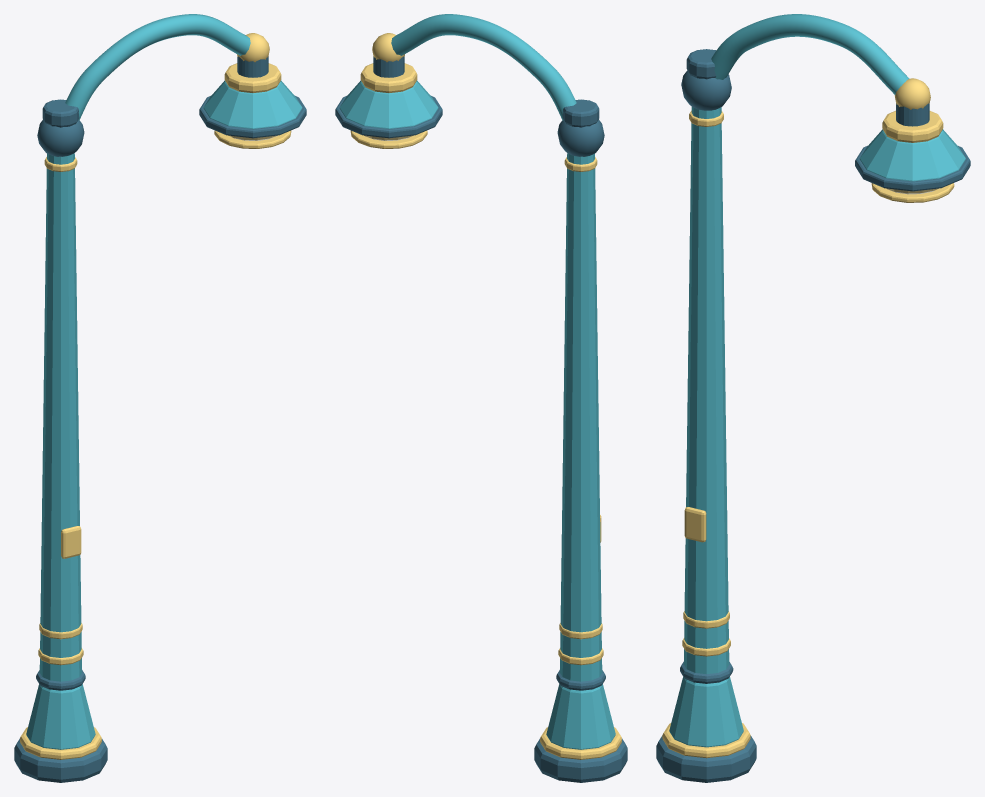
Rendered from street_light_01.fbx.
3 views of the same model, side by side, from view 1: azimuth 30°, elevation 25°; view 2: azimuth 150°, elevation 25°; view 3: azimuth 330°, elevation 25° (orthographic). The views are drawn at different scales.
Parts seen in each view (by area): view 1: CG_Lamp_Main_Tapered_Pole, CG_Lamp_Curved_Lamp_Arm, CG_Lamp_Base_Taper, CG_Lamp_Lamp_Shade, CG_Lamp_Base_Foot, CG_Lamp_Arm_Connection, CG_Lamp_Lamp_Shade_Rim, CG_Lamp_Lamp_Top_Cap, CG_Lamp_Base_Accent, CG_Lamp_Pole_Top_Cap, CG_Lamp_Glass_Lower_Trim, CG_Lamp_Pole_Decorative_Badge (+2 smaller); view 2: CG_Lamp_Main_Tapered_Pole, CG_Lamp_Curved_Lamp_Arm, CG_Lamp_Base_Taper, CG_Lamp_Lamp_Shade, CG_Lamp_Base_Foot, CG_Lamp_Arm_Connection, CG_Lamp_Lamp_Shade_Rim, CG_Lamp_Lamp_Top_Cap, CG_Lamp_Base_Accent, CG_Lamp_Pole_Top_Cap, CG_Lamp_Glass_Lower_Trim, CG_Lamp_Lamp_Arm_End (+1 smaller); view 3: CG_Lamp_Main_Tapered_Pole, CG_Lamp_Curved_Lamp_Arm, CG_Lamp_Base_Taper, CG_Lamp_Lamp_Shade, CG_Lamp_Base_Foot, CG_Lamp_Arm_Connection, CG_Lamp_Lamp_Shade_Rim, CG_Lamp_Lamp_Top_Cap, CG_Lamp_Base_Accent, CG_Lamp_Lamp_Arm_End, CG_Lamp_Glass_Lower_Trim, CG_Lamp_Pole_Top_Cap (+3 smaller).
Boxes of the visible parts, bbox=[...] form: CG_Lamp_Main_Tapered_Pole: bbox=[39, 153, 81, 681]; CG_Lamp_Curved_Lamp_Arm: bbox=[65, 14, 250, 120]; CG_Lamp_Base_Taper: bbox=[26, 684, 95, 749]; CG_Lamp_Lamp_Shade: bbox=[203, 80, 302, 128]; CG_Lamp_Base_Foot: bbox=[14, 738, 107, 782]; CG_Lamp_Arm_Connection: bbox=[37, 119, 84, 156]; CG_Lamp_Lamp_Shade_Rim: bbox=[199, 95, 306, 138]; CG_Lamp_Lamp_Top_Cap: bbox=[224, 63, 281, 92]; CG_Lamp_Base_Accent: bbox=[20, 727, 101, 759]; CG_Lamp_Pole_Top_Cap: bbox=[42, 99, 79, 127]; CG_Lamp_Glass_Lower_Trim: bbox=[214, 130, 291, 148]; CG_Lamp_Pole_Decorative_Badge: bbox=[61, 526, 81, 558]; CG_Lamp_Main_Tapered_Pole: bbox=[560, 153, 602, 681]; CG_Lamp_Curved_Lamp_Arm: bbox=[391, 14, 576, 120]; CG_Lamp_Base_Taper: bbox=[546, 684, 615, 749]; CG_Lamp_Lamp_Shade: bbox=[339, 80, 438, 128]; CG_Lamp_Base_Foot: bbox=[534, 738, 627, 782]; CG_Lamp_Arm_Connection: bbox=[557, 119, 604, 156]; CG_Lamp_Lamp_Shade_Rim: bbox=[335, 95, 442, 138]; CG_Lamp_Lamp_Top_Cap: bbox=[360, 63, 417, 92]; CG_Lamp_Base_Accent: bbox=[540, 727, 621, 759]; CG_Lamp_Pole_Top_Cap: bbox=[562, 99, 599, 127]; CG_Lamp_Glass_Lower_Trim: bbox=[350, 130, 427, 148]; CG_Lamp_Lamp_Arm_End: bbox=[372, 33, 404, 62]; CG_Lamp_Main_Tapered_Pole: bbox=[683, 107, 729, 674]; CG_Lamp_Curved_Lamp_Arm: bbox=[711, 14, 909, 94]; CG_Lamp_Base_Taper: bbox=[669, 677, 743, 747]; CG_Lamp_Lamp_Shade: bbox=[859, 129, 965, 181]; CG_Lamp_Base_Foot: bbox=[656, 735, 756, 782]; CG_Lamp_Arm_Connection: bbox=[681, 70, 731, 110]; CG_Lamp_Lamp_Shade_Rim: bbox=[855, 145, 970, 191]; CG_Lamp_Lamp_Top_Cap: bbox=[882, 110, 943, 142]; CG_Lamp_Base_Accent: bbox=[662, 723, 750, 758]; CG_Lamp_Lamp_Arm_End: bbox=[894, 78, 930, 109]; CG_Lamp_Glass_Lower_Trim: bbox=[871, 183, 954, 202]; CG_Lamp_Pole_Top_Cap: bbox=[686, 49, 716, 79].
Bounding box in the file's own units: 228 × 562 × 76.
